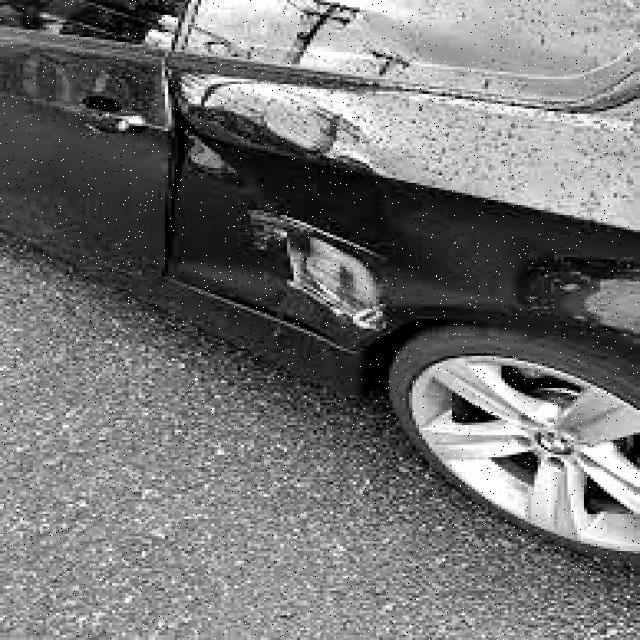quaterpanel-dent: (172, 65, 637, 388)
